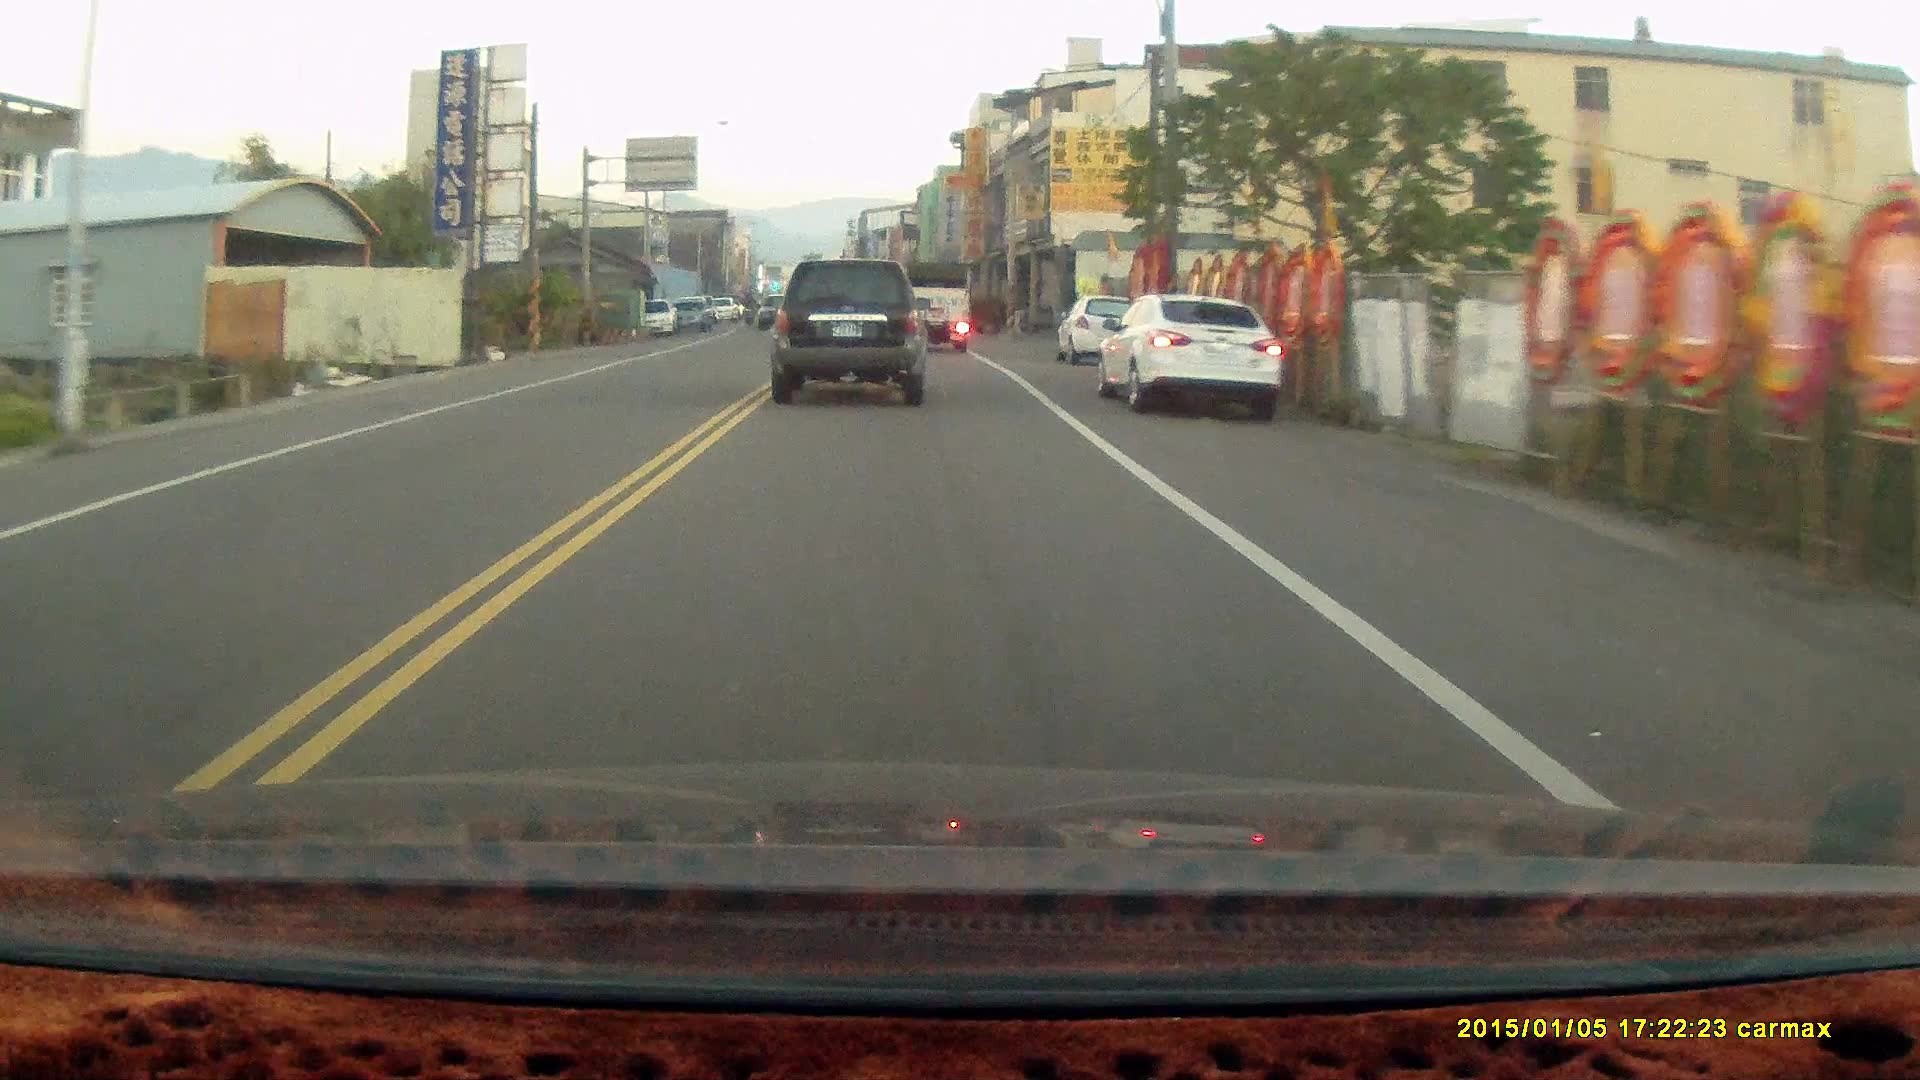vehicle: (1097, 290, 1287, 417), (770, 258, 931, 407), (899, 262, 975, 357), (1058, 294, 1153, 365)
